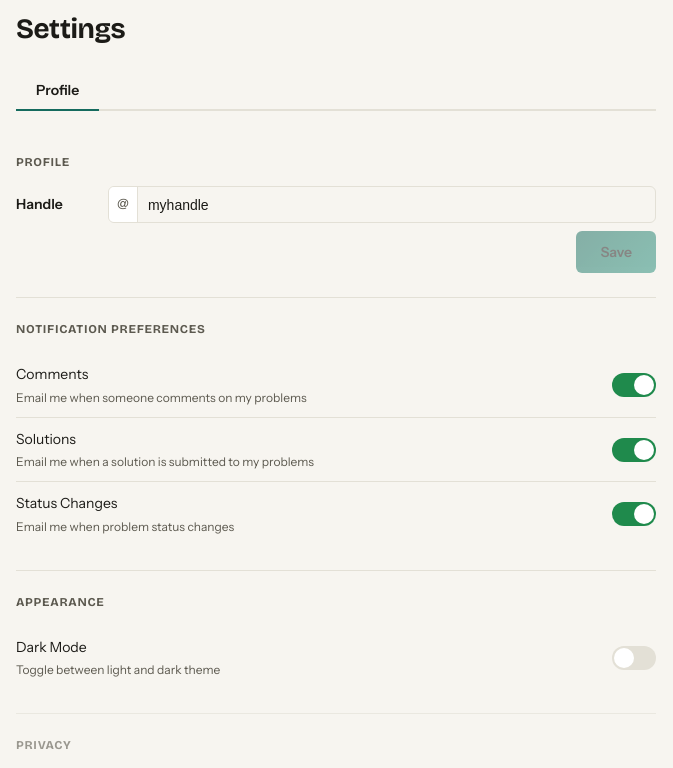
Test: Settings page — handle edit › 429 response renders cooldown message with next_allowed_at
Replace the text in the field labelled "Handle" with "newhandle" at (396, 205), box [138,191,655,219]
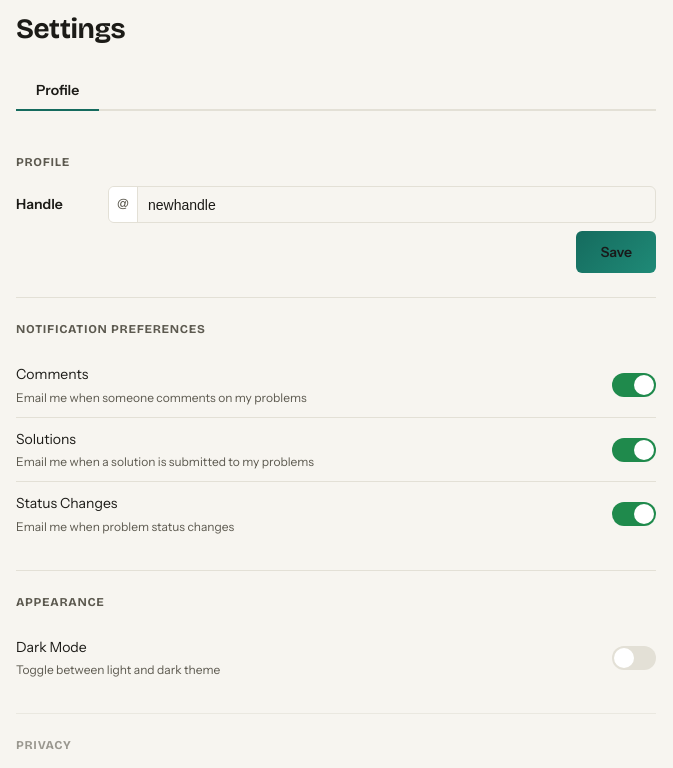
Click the button "Save" at (616, 252), box [576,231,656,273]
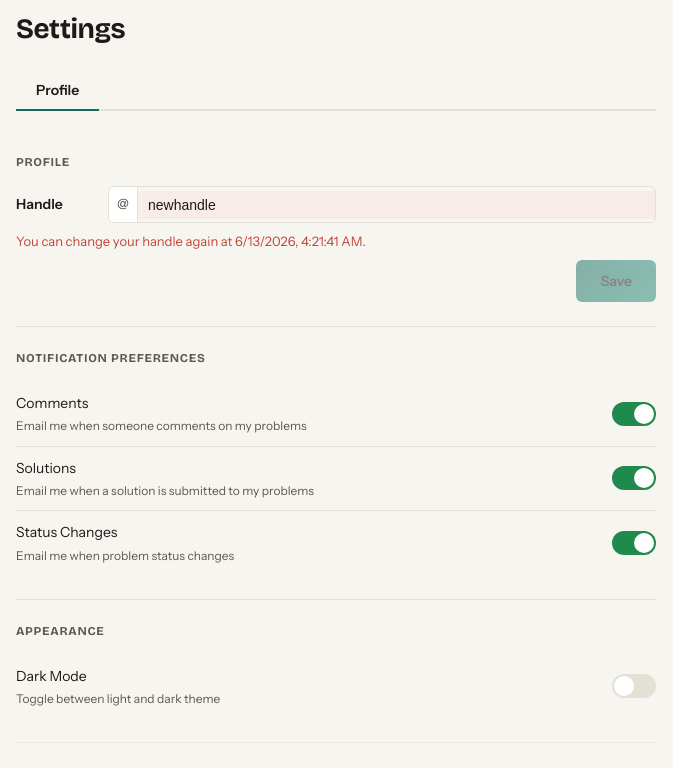
Check: the text "You can change your handle again at 6/13/2026, 4:21:41 AM." is shown, box [16,233,366,249]
